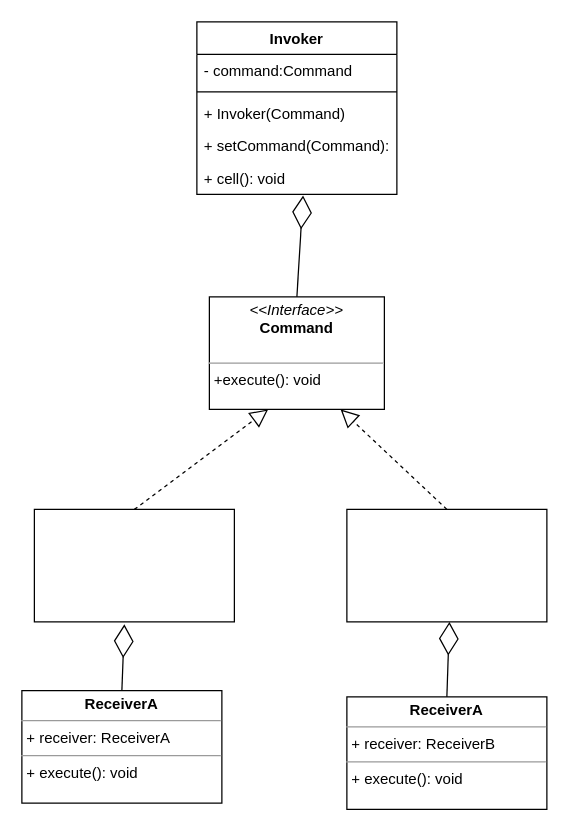
The diagram is 569 pixels wide and 831 high, and some of its shapes have lost their labels. The centre of each missing label's shape, as x and y in pixels:
CommandA + receiver: ReceiverA + execute(): void: (x=133, y=565)
CommandB + receiver: ReceiverB + execute(): void: (x=446, y=565)
